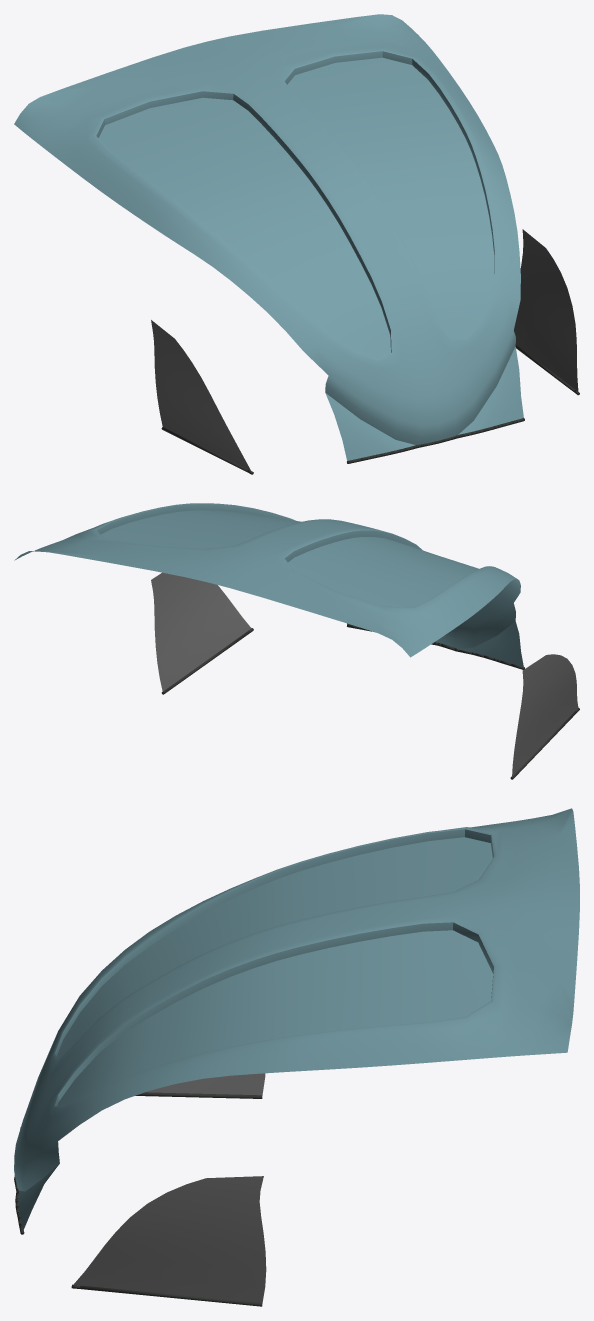
File: STAGE2_PART_008_ShortenedFrontHood.glb
3 renders of one model, top to bottom at view 1: azimuth 30°, elevation 25°; view 2: azimuth 150°, elevation 25°; view 3: azimuth 270°, elevation 25°, orthographic. The views are drawn at different scales.
Parts seen in each view (by area): view 1: BODY_Stage2_RoundedNose_B_Body_Hood_Front_0, BODY_Stage2_RoundedNose_B_Body_Nose_Front_1, BODY_Stage2_RoundedNose_B_Body_Nose_Front_0, TRIM_Stage2_Nose_B_Body_Nose_Front_0, TRIM_Stage2_Nose_B_Body_Nose_Front_1; view 2: BODY_Stage2_RoundedNose_B_Body_Hood_Front_0, BODY_Stage2_RoundedNose_B_Body_Nose_Front_1, BODY_Stage2_RoundedNose_B_Body_Nose_Front_0, TRIM_Stage2_Nose_B_Body_Nose_Front_1, TRIM_Stage2_Nose_B_Body_Nose_Front_0; view 3: BODY_Stage2_RoundedNose_B_Body_Hood_Front_0, BODY_Stage2_RoundedNose_B_Body_Nose_Front_1, BODY_Stage2_RoundedNose_B_Body_Nose_Front_0, TRIM_Stage2_Nose_B_Body_Nose_Front_1.
Boxes of the visible parts, x1,y1,x2,y2 form: BODY_Stage2_RoundedNose_B_Body_Hood_Front_0: [14, 14, 520, 425]; BODY_Stage2_RoundedNose_B_Body_Nose_Front_1: [151, 229, 578, 471]; BODY_Stage2_RoundedNose_B_Body_Nose_Front_0: [325, 331, 523, 460]; TRIM_Stage2_Nose_B_Body_Nose_Front_0: [347, 418, 524, 463]; TRIM_Stage2_Nose_B_Body_Nose_Front_1: [161, 345, 579, 474]; BODY_Stage2_RoundedNose_B_Body_Hood_Front_0: [14, 503, 520, 657]; BODY_Stage2_RoundedNose_B_Body_Nose_Front_1: [151, 572, 578, 776]; BODY_Stage2_RoundedNose_B_Body_Nose_Front_0: [347, 603, 523, 667]; TRIM_Stage2_Nose_B_Body_Nose_Front_1: [161, 628, 579, 779]; TRIM_Stage2_Nose_B_Body_Nose_Front_0: [347, 624, 524, 669]; BODY_Stage2_RoundedNose_B_Body_Hood_Front_0: [14, 808, 579, 1165]; BODY_Stage2_RoundedNose_B_Body_Nose_Front_1: [73, 1073, 266, 1303]; BODY_Stage2_RoundedNose_B_Body_Nose_Front_0: [14, 1141, 59, 1230]; TRIM_Stage2_Nose_B_Body_Nose_Front_1: [71, 1092, 262, 1306].
Size of the model in its own units: 1.15 by 0.6924 by 1.16.
